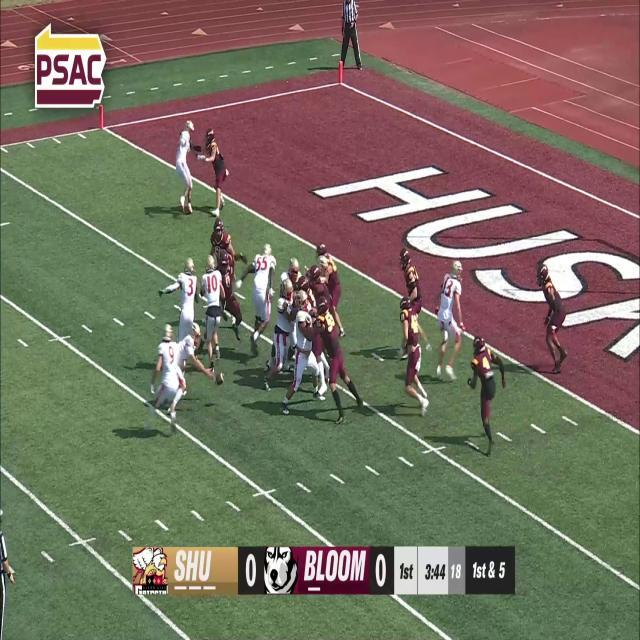football: (214, 372, 226, 384)
